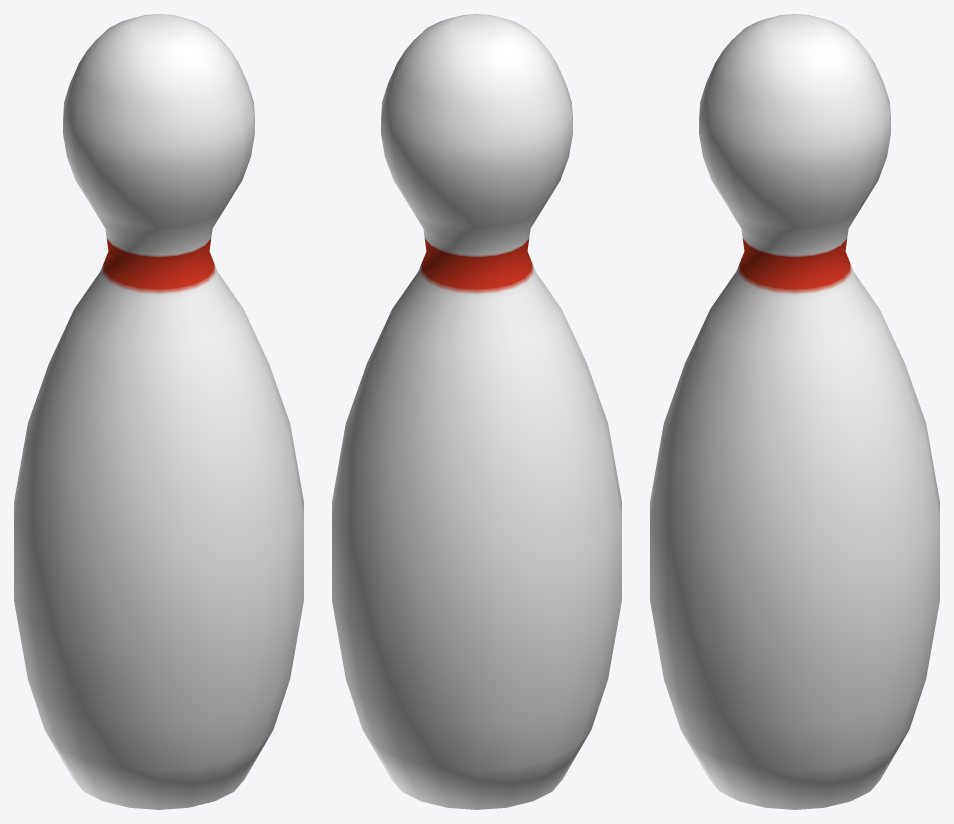
File: BowlingCone01.fbx
3 renders of one model, left to right at view 1: azimuth 30°, elevation 25°; view 2: azimuth 150°, elevation 25°; view 3: azimuth 270°, elevation 25°, orthographic.
Parts seen in each view (by area): view 1: Kegel; view 2: Kegel; view 3: Kegel.
Part boxes in pixels (x1,y1,x2,y2): Kegel: (14, 14, 303, 809); Kegel: (332, 14, 621, 809); Kegel: (650, 14, 939, 809).
Size of the model in its own units: 26.66 by 74.67 by 26.26.
1 material, 1 textured.
